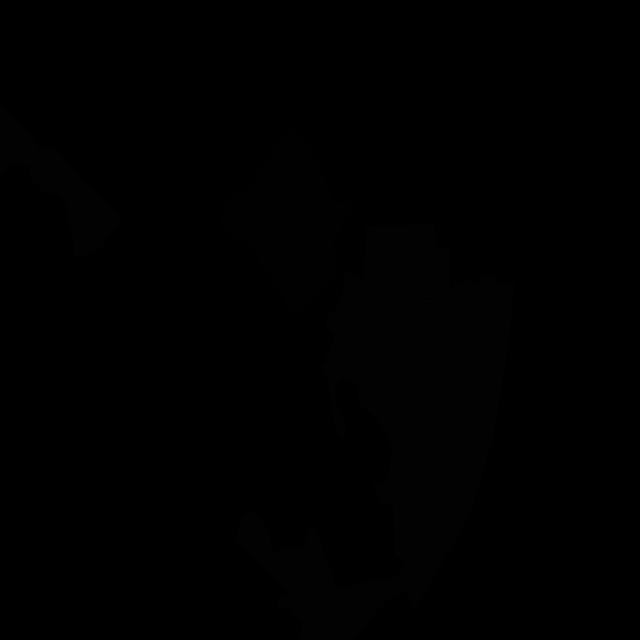cardboard: (236, 263, 515, 640), (0, 104, 121, 258), (364, 224, 450, 298)
rigid_plastic: (218, 128, 352, 319)
